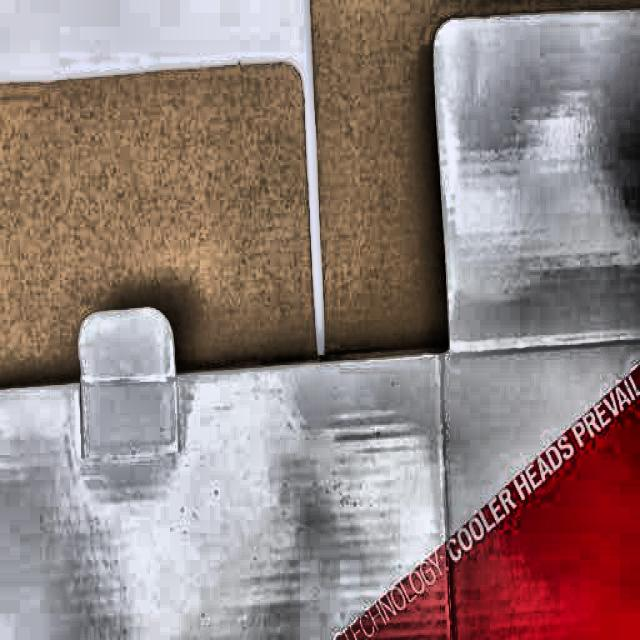cardboard: (6, 8, 636, 634)
